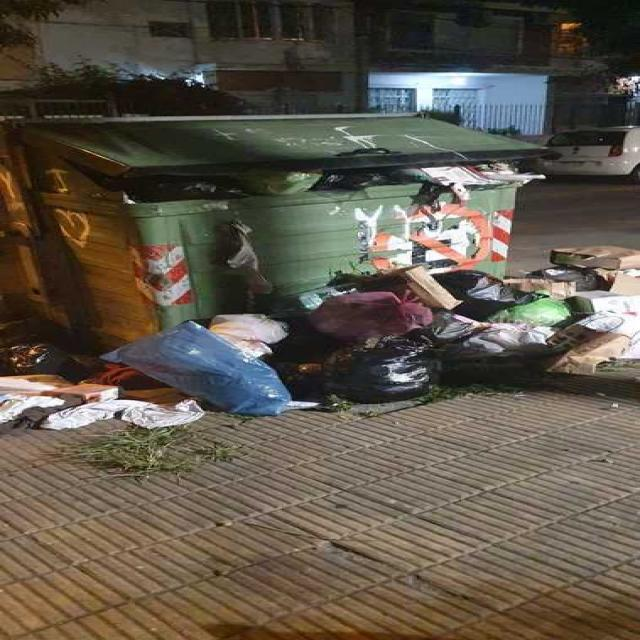high trash: (0, 248, 640, 429)
